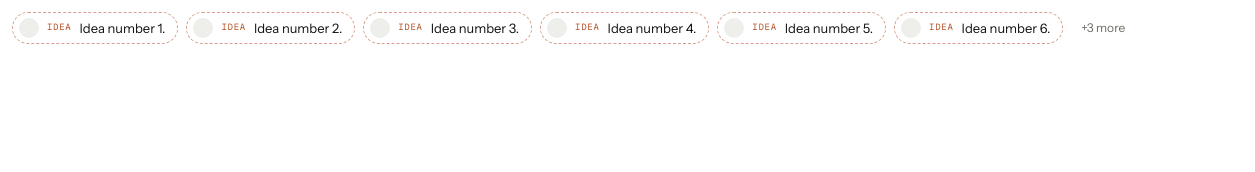
it: an idea tile on the calendar › folds a day's ideas past six behind one button, so many still fit above the hours
The image size is (1255, 172).
Expected: the number of buttons named "Idea: Idea number" is 6, x1=12 y1=12 x2=178 y2=44; x1=186 y1=12 x2=355 y2=44; x1=363 y1=12 x2=532 y2=44; x1=540 y1=12 x2=709 y2=44; x1=717 y1=12 x2=886 y2=44; x1=894 y1=12 x2=1063 y2=44
Click the button "+3 more" at (1103, 28), box x1=1071 y1=12 x2=1135 y2=44
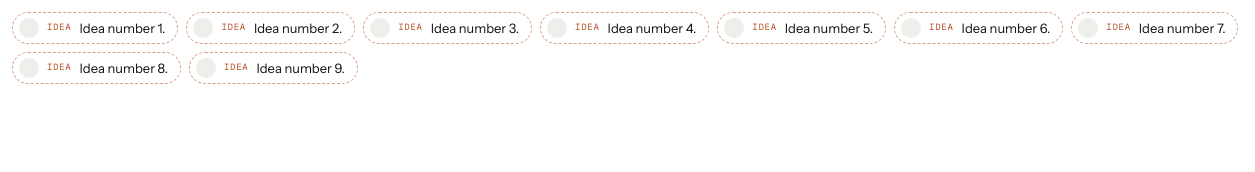
Now the number of buttons named "Idea: Idea number" is 9
Now the button "more" is gone
